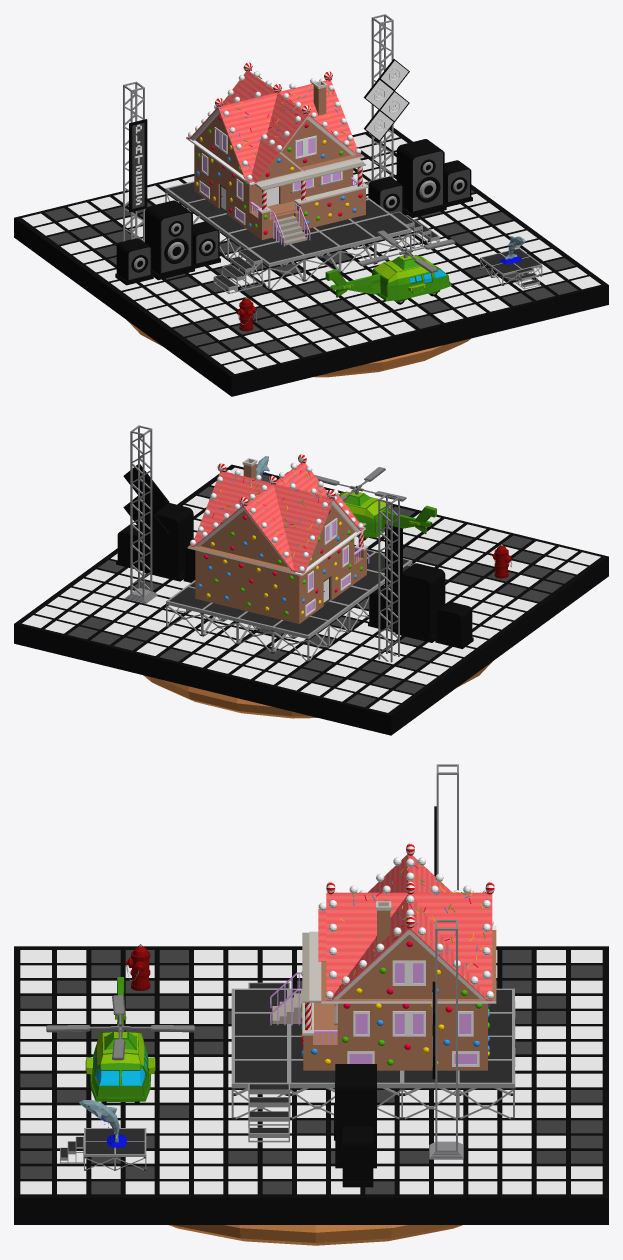
The picture shows the model from 3 angles, top to bottom: view 1: azimuth 30°, elevation 25°; view 2: azimuth 150°, elevation 25°; view 3: azimuth 270°, elevation 25°; orthographic projection. The views are drawn at different scales.
Parts seen in each view (by area): view 1: Cube.008, Cube.1203, VEHICLES_HELICOPTER, UNDERGROUND_PIZZA; view 2: Cube.008, Cube.1203, VEHICLES_HELICOPTER, UNDERGROUND_PIZZA, OBJRANDOM_FIRE_HYDRANT; view 3: Cube.008, Cube.1203, VEHICLES_HELICOPTER, UNDERGROUND_PIZZA, OBJRANDOM_FIRE_HYDRANT, ANIMAL_DELFIN.
Boxes of the visible parts, bbox=[...] form: Cube.008: bbox=[14, 14, 608, 396]; Cube.1203: bbox=[186, 62, 368, 246]; VEHICLES_HELICOPTER: bbox=[325, 230, 455, 304]; UNDERGROUND_PIZZA: bbox=[127, 320, 470, 377]; Cube.008: bbox=[14, 425, 608, 735]; Cube.1203: bbox=[187, 454, 369, 623]; VEHICLES_HELICOPTER: bbox=[315, 467, 436, 540]; UNDERGROUND_PIZZA: bbox=[143, 661, 492, 718]; OBJRANDOM_FIRE_HYDRANT: bbox=[492, 544, 511, 578]; Cube.008: bbox=[14, 764, 608, 1224]; Cube.1203: bbox=[270, 843, 496, 1070]; VEHICLES_HELICOPTER: bbox=[46, 977, 194, 1103]; UNDERGROUND_PIZZA: bbox=[169, 1225, 462, 1245]; OBJRANDOM_FIRE_HYDRANT: bbox=[126, 944, 150, 990]; ANIMAL_DELFIN: bbox=[79, 1100, 128, 1148].
Size of the model in its own units: 4000 by 2184 by 4000.
Materials: 49 (2 with a texture image).
